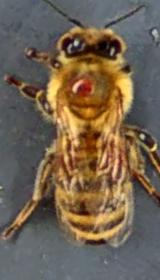varroa_mite: (64, 70, 100, 107)
